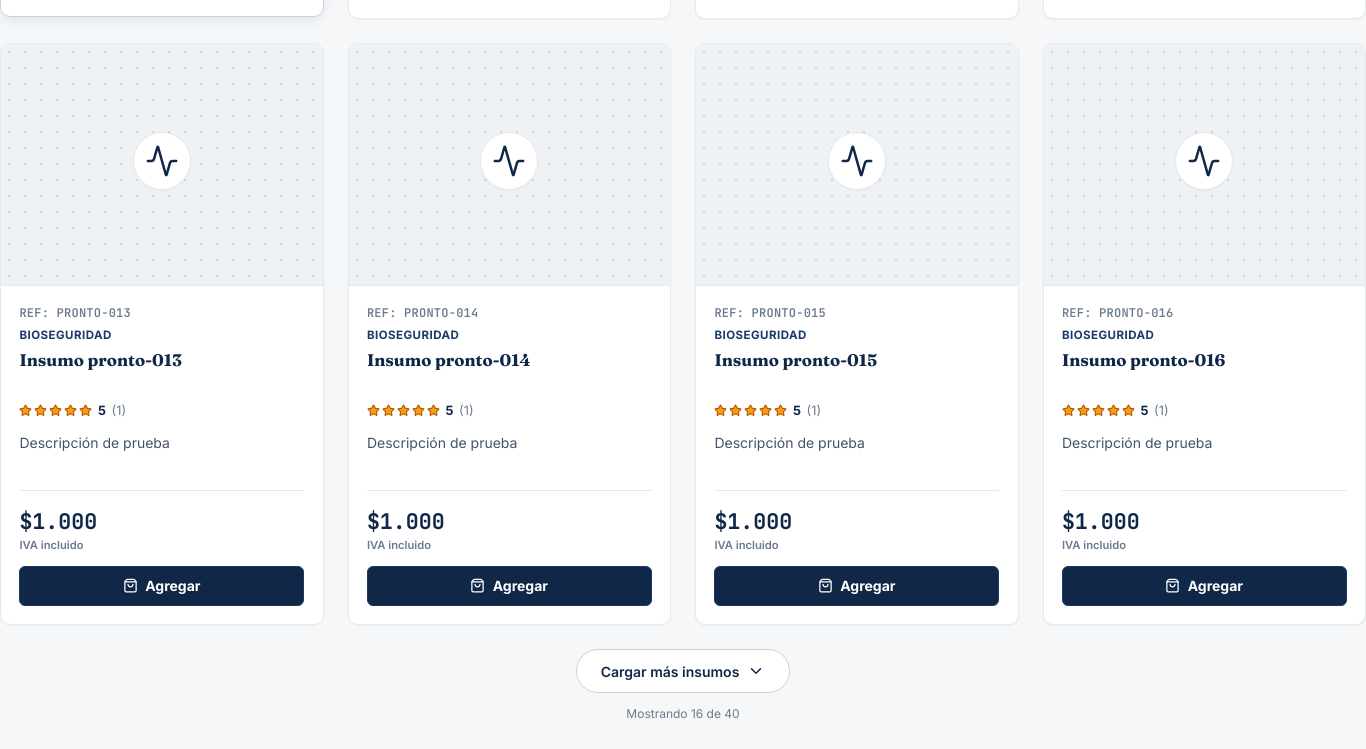
Test: ProductList progressive reveal (Task 8.7) › hides the button once the end of the list is reached
(page scrolled)
Click the button "Cargar más insumos" at {"x": 683, "y": 671}, box [576,649,790,693]
(page scrolled)
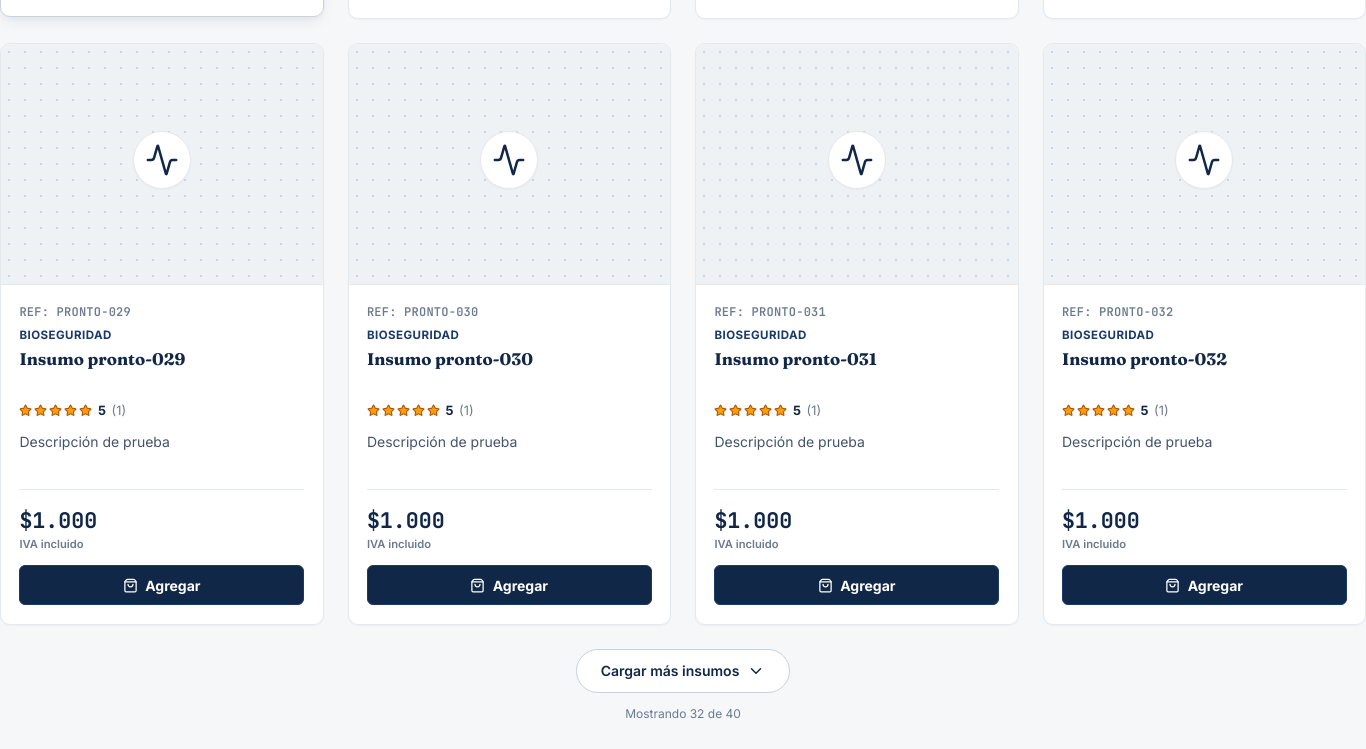
Click the button "Cargar más insumos" at {"x": 683, "y": 670}, box [576,648,790,692]
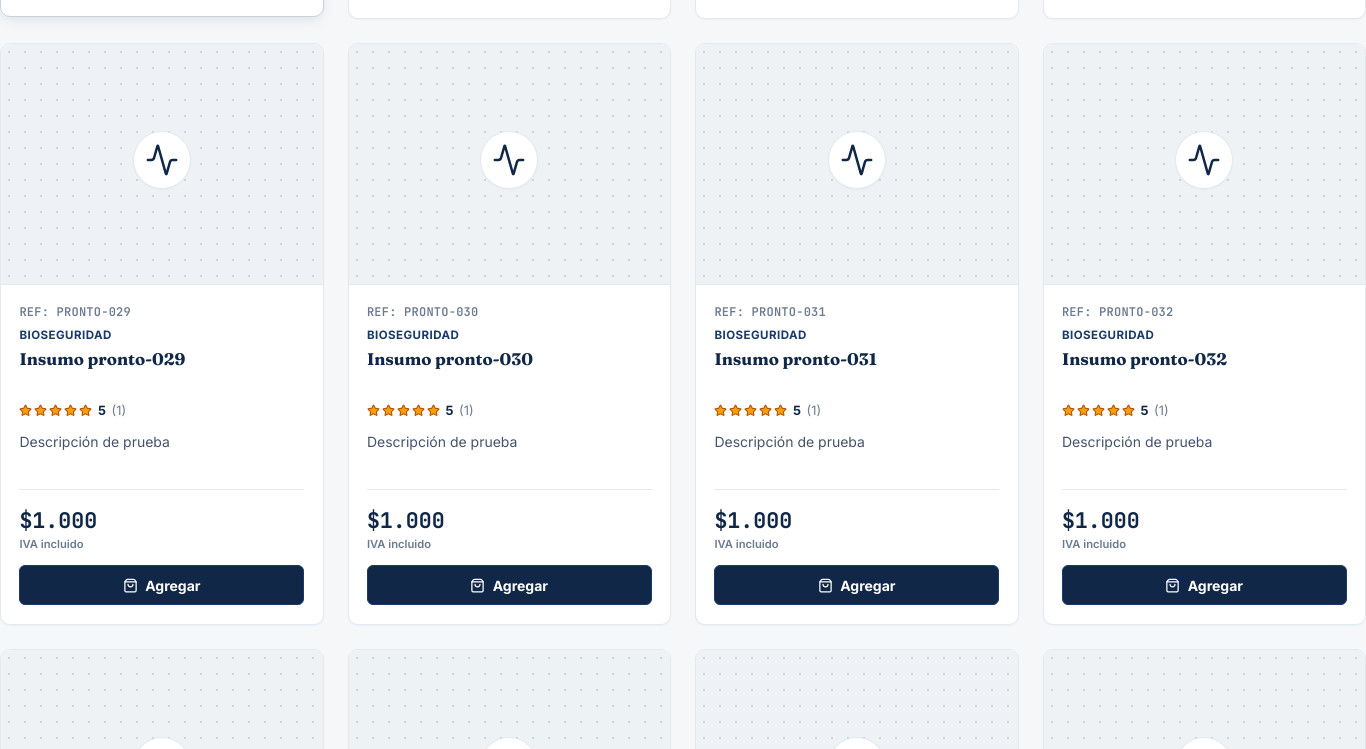
Expected: the button "Cargar más insumos" is gone
Expected: the text "Mostrando" is gone
